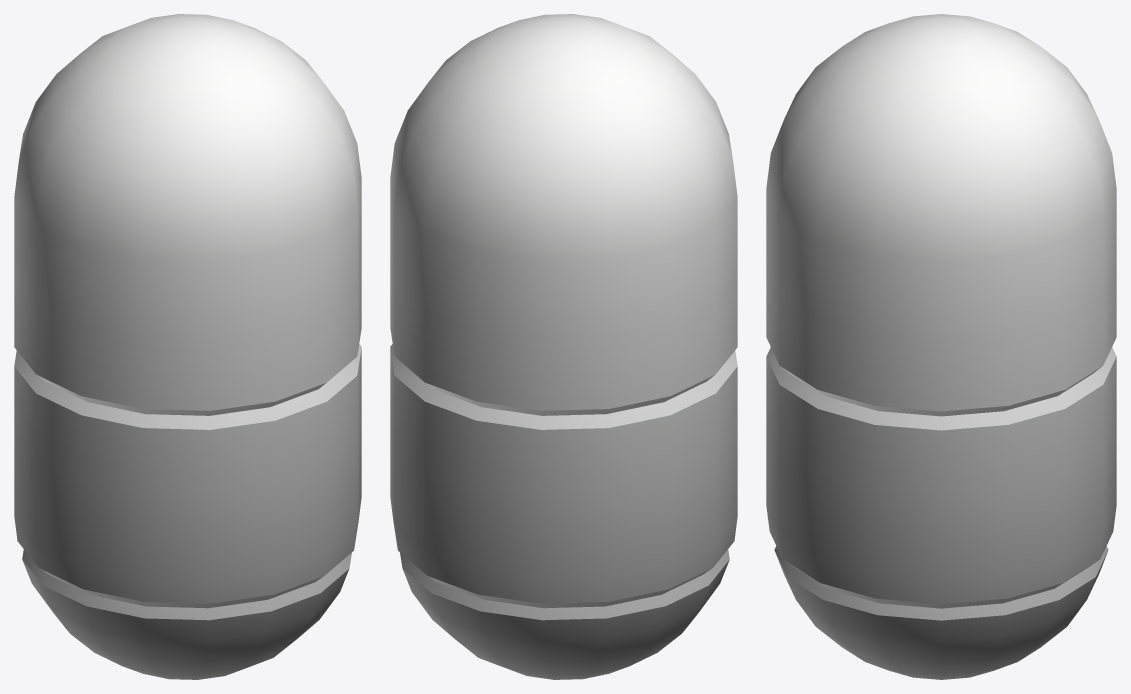
The model's file is Body_BW_01.fbx.
3 views of the same model, side by side, from view 1: azimuth 30°, elevation 25°; view 2: azimuth 150°, elevation 25°; view 3: azimuth 270°, elevation 25° (orthographic).
Parts seen in each view (by area): view 1: Body_BW_01; view 2: Body_BW_01; view 3: Body_BW_01.
Boxes of the visible parts, x1,y1,x2,y2 form: Body_BW_01: (14, 14, 361, 679); Body_BW_01: (390, 14, 737, 679); Body_BW_01: (766, 14, 1116, 679).
Bounding box in the file's own units: 100 × 200 × 100.
